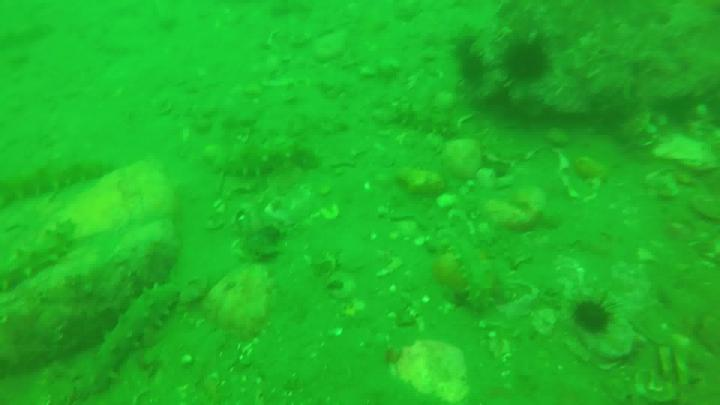echinus: (94, 285, 189, 386), (4, 155, 115, 205), (1, 223, 71, 301), (202, 139, 316, 183), (437, 230, 489, 313), (392, 101, 453, 138)
scallop: (437, 192, 462, 210), (416, 235, 426, 247), (389, 313, 400, 322), (422, 296, 432, 304), (488, 332, 499, 339), (334, 329, 345, 336), (390, 286, 398, 293)
starfish: (499, 32, 557, 84), (575, 297, 622, 335), (461, 52, 489, 88)
